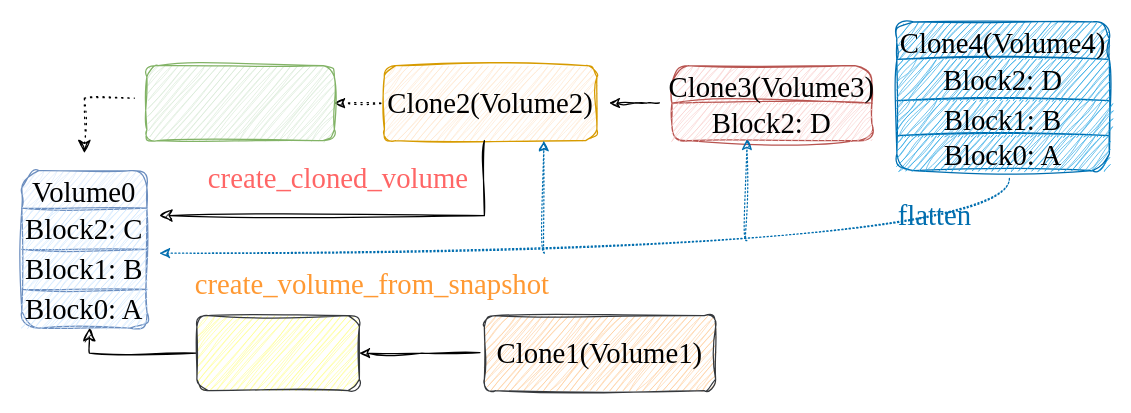
The diagram is 1131 pixels wide and 413 high, and some of its shapes have lost their labels. The box of each missing label's shape, as (x1, y1, x2, y2) in pixels:
Snapshot1: (196, 314, 359, 391)
Snapshot_temp: (146, 64, 334, 141)
